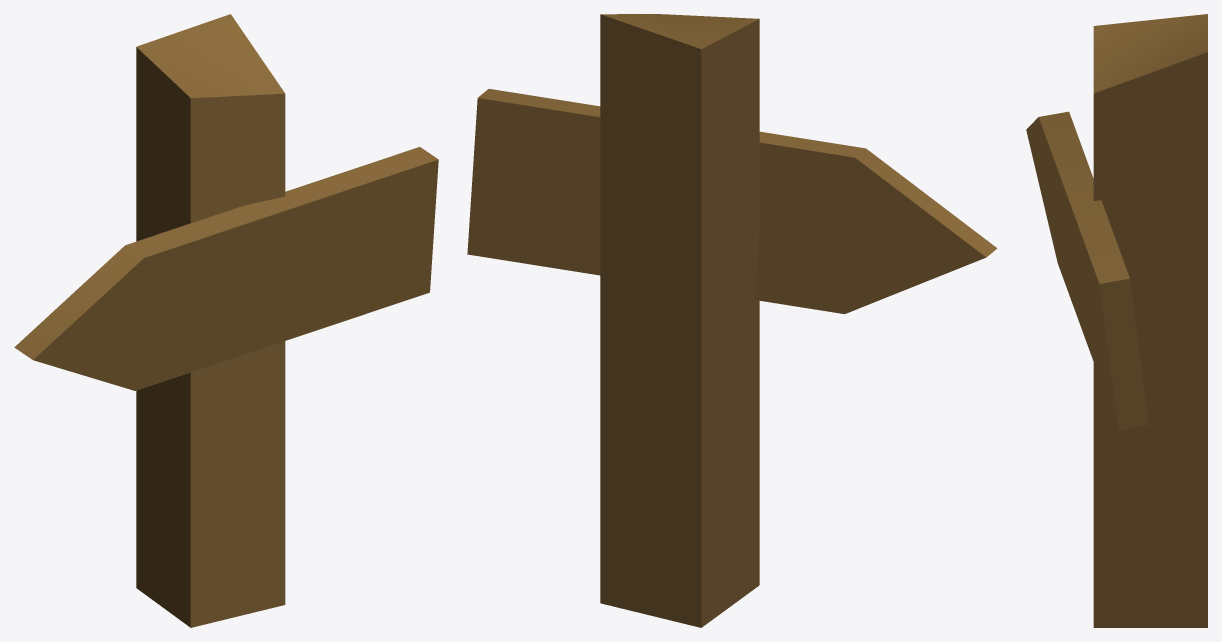
The model's file is SignPost_03.gltf.
The picture shows the model from 3 angles, left to right: view 1: azimuth 30°, elevation 25°; view 2: azimuth 150°, elevation 25°; view 3: azimuth 270°, elevation 25°; orthographic projection. The views are drawn at different scales.
Visible parts, largest first — view 1: SF_Prop_SignPost_03; view 2: SF_Prop_SignPost_03; view 3: SF_Prop_SignPost_03.
Part boxes in pixels (x1=…): SF_Prop_SignPost_03: x1=14, y1=14, x2=438, y2=627; SF_Prop_SignPost_03: x1=467, y1=14, x2=997, y2=627; SF_Prop_SignPost_03: x1=1026, y1=14, x2=1207, y2=627.
Size of the model in its own units: 0.0127 by 0.015 by 0.00429.
1 material, 1 textured.
